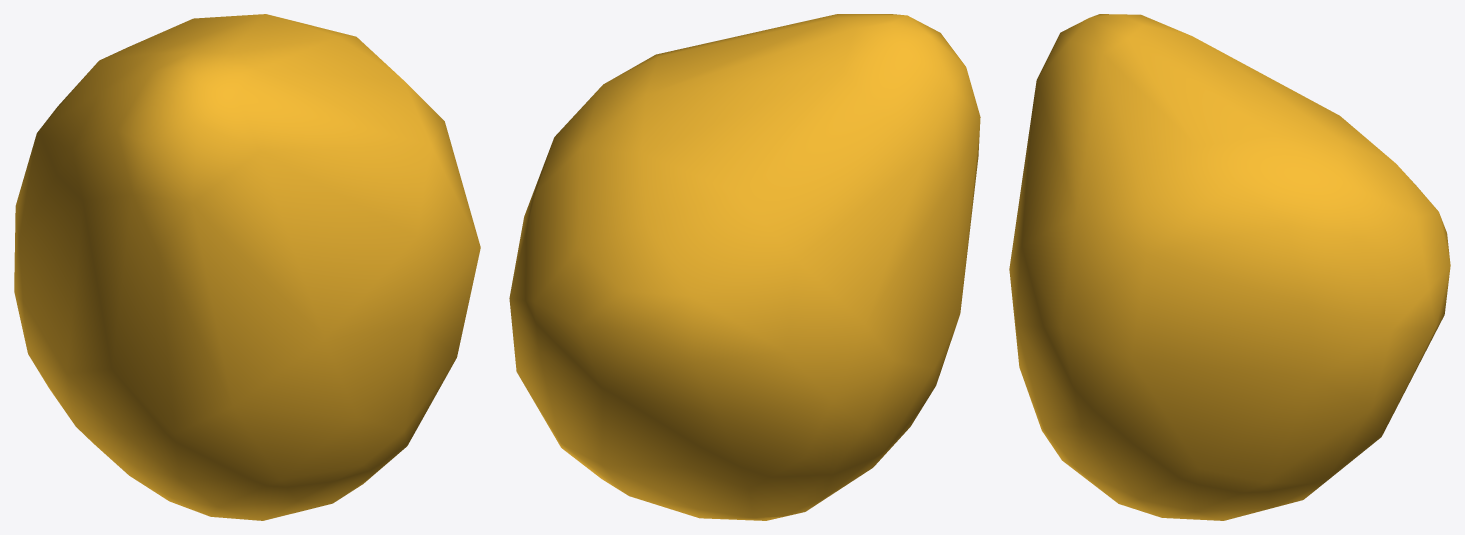
The model's file is nervoso-mamillary-body-r.glb.
The picture shows the model from 3 angles, left to right: view 1: azimuth 30°, elevation 25°; view 2: azimuth 150°, elevation 25°; view 3: azimuth 270°, elevation 25°; orthographic projection. The views are drawn at different scales.
Visible parts, largest first — view 1: Mamillary body.r; view 2: Mamillary body.r; view 3: Mamillary body.r.
Boxes of the visible parts, <box> form: Mamillary body.r: <box>14,14,480,520</box>; Mamillary body.r: <box>509,14,980,520</box>; Mamillary body.r: <box>1009,14,1450,520</box>.
Bounding box in the file's own units: 0.00384 × 0.00487 × 0.00443.
